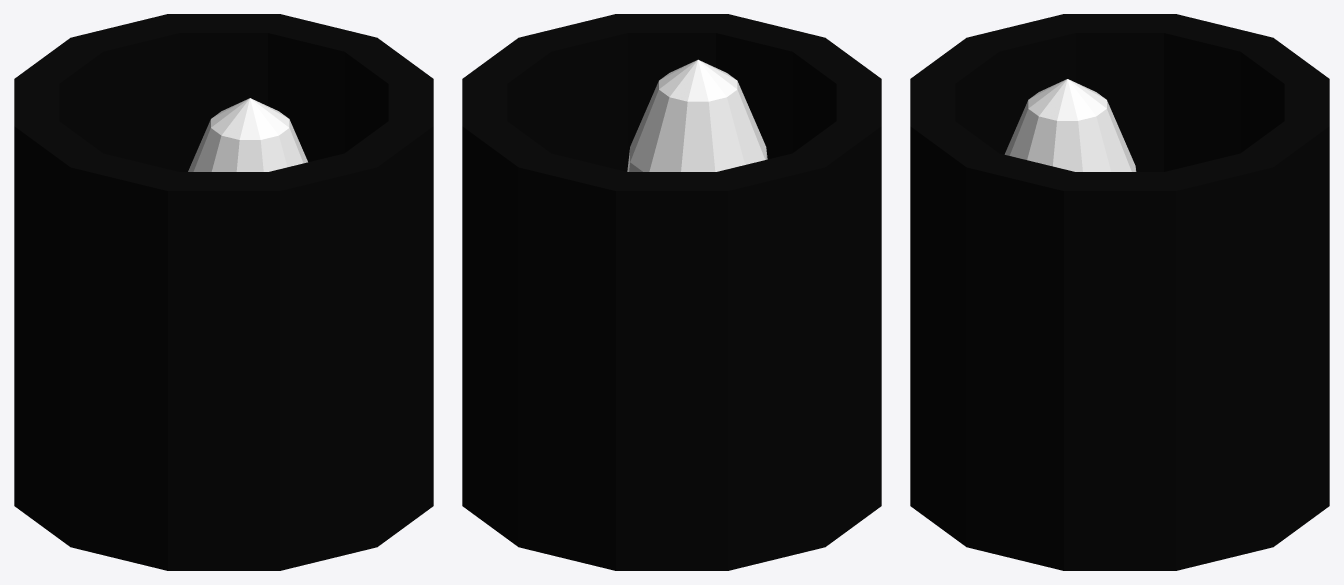
Rendered from TrashCan(OrCanIt).gltf.
The picture shows the model from 3 angles, left to right: view 1: azimuth 30°, elevation 25°; view 2: azimuth 150°, elevation 25°; view 3: azimuth 270°, elevation 25°; orthographic projection.
Parts seen in each view (by area): view 1: tube, cylinder, sphere; view 2: tube, cylinder, sphere; view 3: tube, cylinder, sphere.
Boxes of the visible parts, bbox=[...] form: tube: bbox=[14, 14, 433, 523]; cylinder: bbox=[14, 459, 433, 570]; sphere: bbox=[188, 98, 307, 171]; tube: bbox=[462, 14, 881, 523]; cylinder: bbox=[462, 459, 881, 570]; sphere: bbox=[627, 59, 767, 171]; tube: bbox=[910, 14, 1329, 523]; cylinder: bbox=[910, 459, 1329, 570]; sphere: bbox=[1004, 79, 1136, 171].
Size of the model in its own units: 1 by 1.06 by 1.
6 materials, 6 textured.
